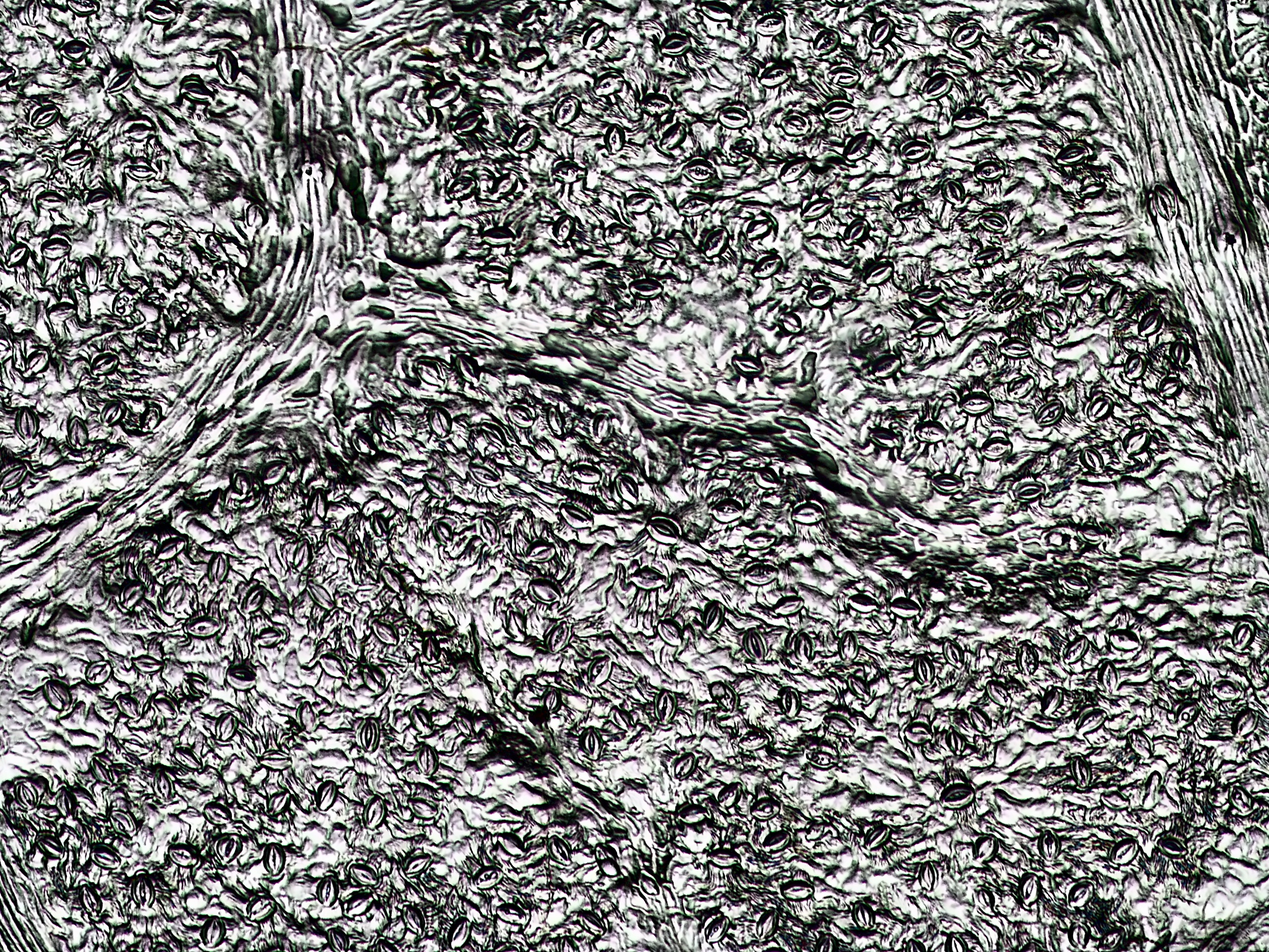stomata: (366, 400, 400, 440), (645, 514, 684, 547), (1154, 829, 1193, 862), (524, 576, 564, 607), (412, 355, 450, 387), (40, 678, 75, 712), (115, 113, 156, 142), (353, 715, 382, 756), (574, 907, 614, 936), (243, 892, 279, 924), (611, 471, 643, 506), (550, 93, 582, 128), (558, 501, 595, 531), (783, 629, 813, 666), (710, 680, 740, 717), (844, 669, 874, 706), (1225, 781, 1256, 816), (293, 698, 323, 734), (977, 432, 1014, 461), (426, 79, 461, 109), (315, 651, 350, 681), (806, 743, 842, 772), (1072, 705, 1108, 734), (430, 517, 463, 548), (419, 472, 453, 502), (149, 768, 179, 802), (199, 914, 229, 948), (107, 808, 142, 837), (491, 831, 526, 860), (910, 651, 938, 687), (939, 781, 975, 809), (178, 77, 214, 105), (79, 884, 107, 920), (753, 906, 781, 942), (911, 418, 951, 443), (304, 488, 331, 525), (583, 654, 613, 687), (970, 884, 1000, 917), (1229, 706, 1262, 736), (211, 831, 244, 861), (55, 37, 93, 63), (121, 156, 159, 182), (453, 351, 482, 385), (1066, 754, 1095, 788), (841, 131, 875, 160), (1009, 478, 1048, 503), (1150, 183, 1177, 219), (626, 566, 668, 589), (257, 747, 294, 773), (1059, 635, 1091, 665), (510, 123, 540, 155), (89, 843, 122, 872), (476, 515, 504, 549), (1015, 639, 1040, 677), (1104, 628, 1142, 653), (940, 637, 967, 672), (921, 73, 956, 100), (414, 743, 441, 778), (164, 843, 199, 870), (820, 714, 859, 738), (442, 175, 478, 201), (149, 692, 180, 722), (326, 532, 356, 563), (443, 917, 473, 948), (1110, 837, 1142, 866), (1125, 729, 1157, 758), (742, 561, 779, 586), (1017, 871, 1042, 908), (948, 22, 985, 47), (495, 900, 532, 925), (844, 591, 877, 619), (1229, 618, 1257, 651), (1034, 399, 1067, 427), (451, 108, 484, 136), (241, 200, 269, 233), (360, 661, 388, 694), (160, 578, 187, 612), (172, 745, 206, 772), (406, 793, 440, 820), (346, 860, 380, 887), (741, 628, 767, 663), (788, 500, 823, 526), (715, 104, 750, 130), (129, 872, 155, 907), (478, 419, 508, 449), (1040, 304, 1070, 334), (1053, 143, 1089, 168), (550, 158, 586, 183), (103, 66, 134, 95), (950, 106, 989, 129), (426, 406, 454, 438), (701, 226, 729, 258), (90, 752, 118, 784), (546, 833, 574, 865), (571, 459, 604, 486), (591, 303, 624, 330), (957, 391, 994, 415), (737, 726, 771, 752), (1036, 829, 1062, 863), (758, 61, 792, 87), (751, 12, 785, 38), (821, 98, 856, 123), (216, 49, 241, 84), (823, 64, 861, 87), (142, 0, 180, 23), (1066, 879, 1095, 909), (984, 678, 1013, 708), (363, 510, 391, 541), (504, 401, 536, 428), (1029, 23, 1061, 50), (730, 354, 766, 378), (711, 496, 744, 522), (204, 550, 230, 583), (901, 720, 935, 745), (670, 751, 699, 780), (372, 619, 401, 648), (1210, 678, 1245, 702), (928, 473, 968, 494), (452, 706, 476, 741), (362, 794, 386, 829), (863, 259, 894, 286), (550, 212, 577, 243), (866, 427, 904, 449), (184, 616, 222, 638), (594, 844, 620, 876), (261, 842, 287, 874), (655, 687, 678, 723), (798, 197, 834, 220), (899, 139, 932, 164), (523, 541, 557, 565), (578, 726, 602, 760), (1056, 572, 1093, 594), (679, 159, 716, 181), (636, 92, 673, 114), (656, 619, 684, 648), (1168, 666, 1197, 694), (810, 28, 838, 57), (490, 172, 518, 201), (348, 428, 375, 458), (544, 621, 571, 651), (594, 70, 624, 97), (226, 663, 256, 690), (701, 912, 728, 942), (402, 847, 429, 877), (972, 833, 998, 864), (1121, 428, 1152, 454), (1014, 62, 1040, 93), (778, 684, 801, 719), (15, 405, 38, 440), (342, 891, 374, 916), (627, 278, 665, 299), (749, 797, 782, 821), (28, 104, 61, 128), (77, 256, 99, 292), (1085, 393, 1113, 421), (581, 23, 609, 51), (609, 704, 638, 731), (1065, 918, 1092, 947), (1079, 445, 1106, 474), (84, 659, 113, 686), (1096, 661, 1119, 695), (989, 288, 1023, 311), (977, 210, 1011, 233), (772, 311, 806, 334), (469, 866, 503, 889), (869, 16, 895, 46), (838, 626, 859, 663), (674, 804, 711, 825), (779, 156, 810, 181), (659, 31, 690, 56), (12, 780, 37, 811), (467, 464, 502, 486), (482, 225, 517, 247), (504, 610, 528, 642), (870, 354, 902, 378), (314, 779, 338, 811), (700, 600, 723, 633), (750, 254, 783, 277), (134, 330, 167, 353), (659, 121, 687, 148), (476, 261, 512, 282), (306, 581, 334, 608), (635, 869, 662, 897), (35, 832, 64, 858), (889, 595, 919, 620), (861, 824, 891, 849), (726, 137, 756, 162), (378, 563, 403, 593), (54, 787, 79, 817), (1103, 284, 1125, 318), (699, 0, 733, 22), (66, 416, 88, 450), (590, 411, 614, 442), (761, 829, 792, 853), (851, 899, 875, 930), (891, 198, 922, 222), (805, 285, 836, 309), (401, 902, 425, 933), (954, 574, 991, 594), (528, 436, 560, 459), (1005, 374, 1037, 397), (602, 123, 625, 155), (998, 338, 1033, 359), (715, 782, 742, 809), (940, 177, 966, 205), (1156, 376, 1185, 401), (1123, 351, 1148, 380), (89, 351, 118, 376), (324, 927, 353, 952), (213, 712, 237, 742), (202, 802, 232, 826), (34, 190, 68, 211), (517, 46, 548, 69), (61, 144, 92, 167), (40, 237, 71, 260), (917, 860, 939, 892), (624, 190, 656, 212), (647, 237, 679, 259), (8, 336, 27, 373), (130, 654, 167, 673), (1136, 308, 1162, 335), (260, 459, 286, 486), (264, 790, 291, 816), (706, 848, 741, 868), (967, 705, 992, 733), (973, 161, 1008, 181), (744, 216, 773, 240), (1040, 687, 1063, 717), (408, 705, 430, 736), (1098, 791, 1132, 811), (1056, 273, 1090, 293), (906, 286, 946, 303), (139, 218, 173, 238), (24, 349, 49, 376), (0, 464, 27, 489), (185, 671, 210, 698), (545, 404, 566, 436), (465, 30, 486, 62), (99, 401, 127, 425), (58, 857, 79, 889), (118, 580, 141, 609), (909, 316, 944, 335), (680, 194, 710, 216), (291, 539, 311, 572), (252, 625, 282, 647), (316, 875, 338, 905), (114, 693, 139, 719), (742, 530, 776, 549), (1168, 337, 1191, 365), (242, 585, 264, 614), (945, 727, 966, 757), (603, 222, 633, 243), (1076, 524, 1107, 544), (972, 245, 1003, 265), (48, 302, 76, 324), (231, 469, 253, 497), (775, 596, 805, 616), (1077, 179, 1107, 199), (843, 219, 867, 244), (157, 535, 183, 558), (780, 883, 813, 901), (422, 629, 440, 662), (780, 115, 809, 135), (4, 243, 28, 267), (80, 388, 103, 413), (1175, 704, 1202, 725), (85, 187, 110, 209), (139, 406, 161, 430), (1098, 929, 1125, 948), (544, 688, 559, 712)
